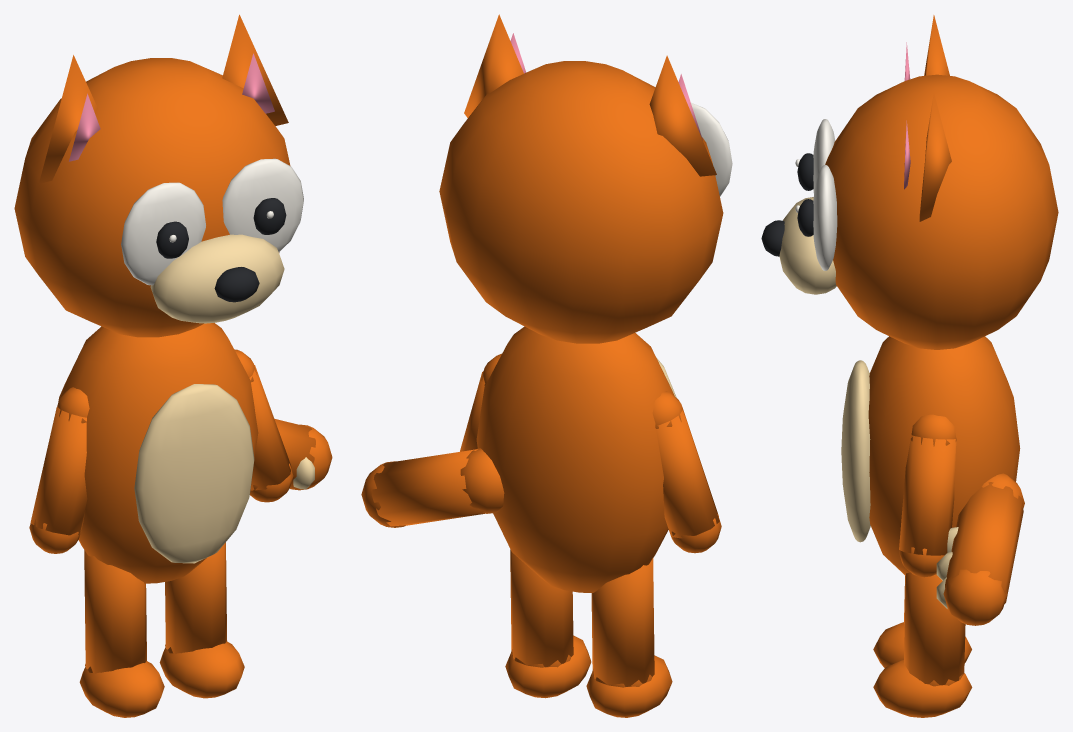
Rendered from red-panda.glb.
3 views of the same model, side by side, from view 1: azimuth 30°, elevation 25°; view 2: azimuth 150°, elevation 25°; view 3: azimuth 270°, elevation 25° (orthographic). The views are drawn at different scales.
Parts seen in each view (by area): view 1: Asset.red-panda; view 2: Asset.red-panda; view 3: Asset.red-panda.
Part boxes in pixels (x1=…): Asset.red-panda: x1=14, y1=14, x2=332, y2=717; Asset.red-panda: x1=361, y1=14, x2=732, y2=717; Asset.red-panda: x1=761, y1=15, x2=1058, y2=717.
Size of the model in its own units: 2.25 by 4.43 by 1.86.
